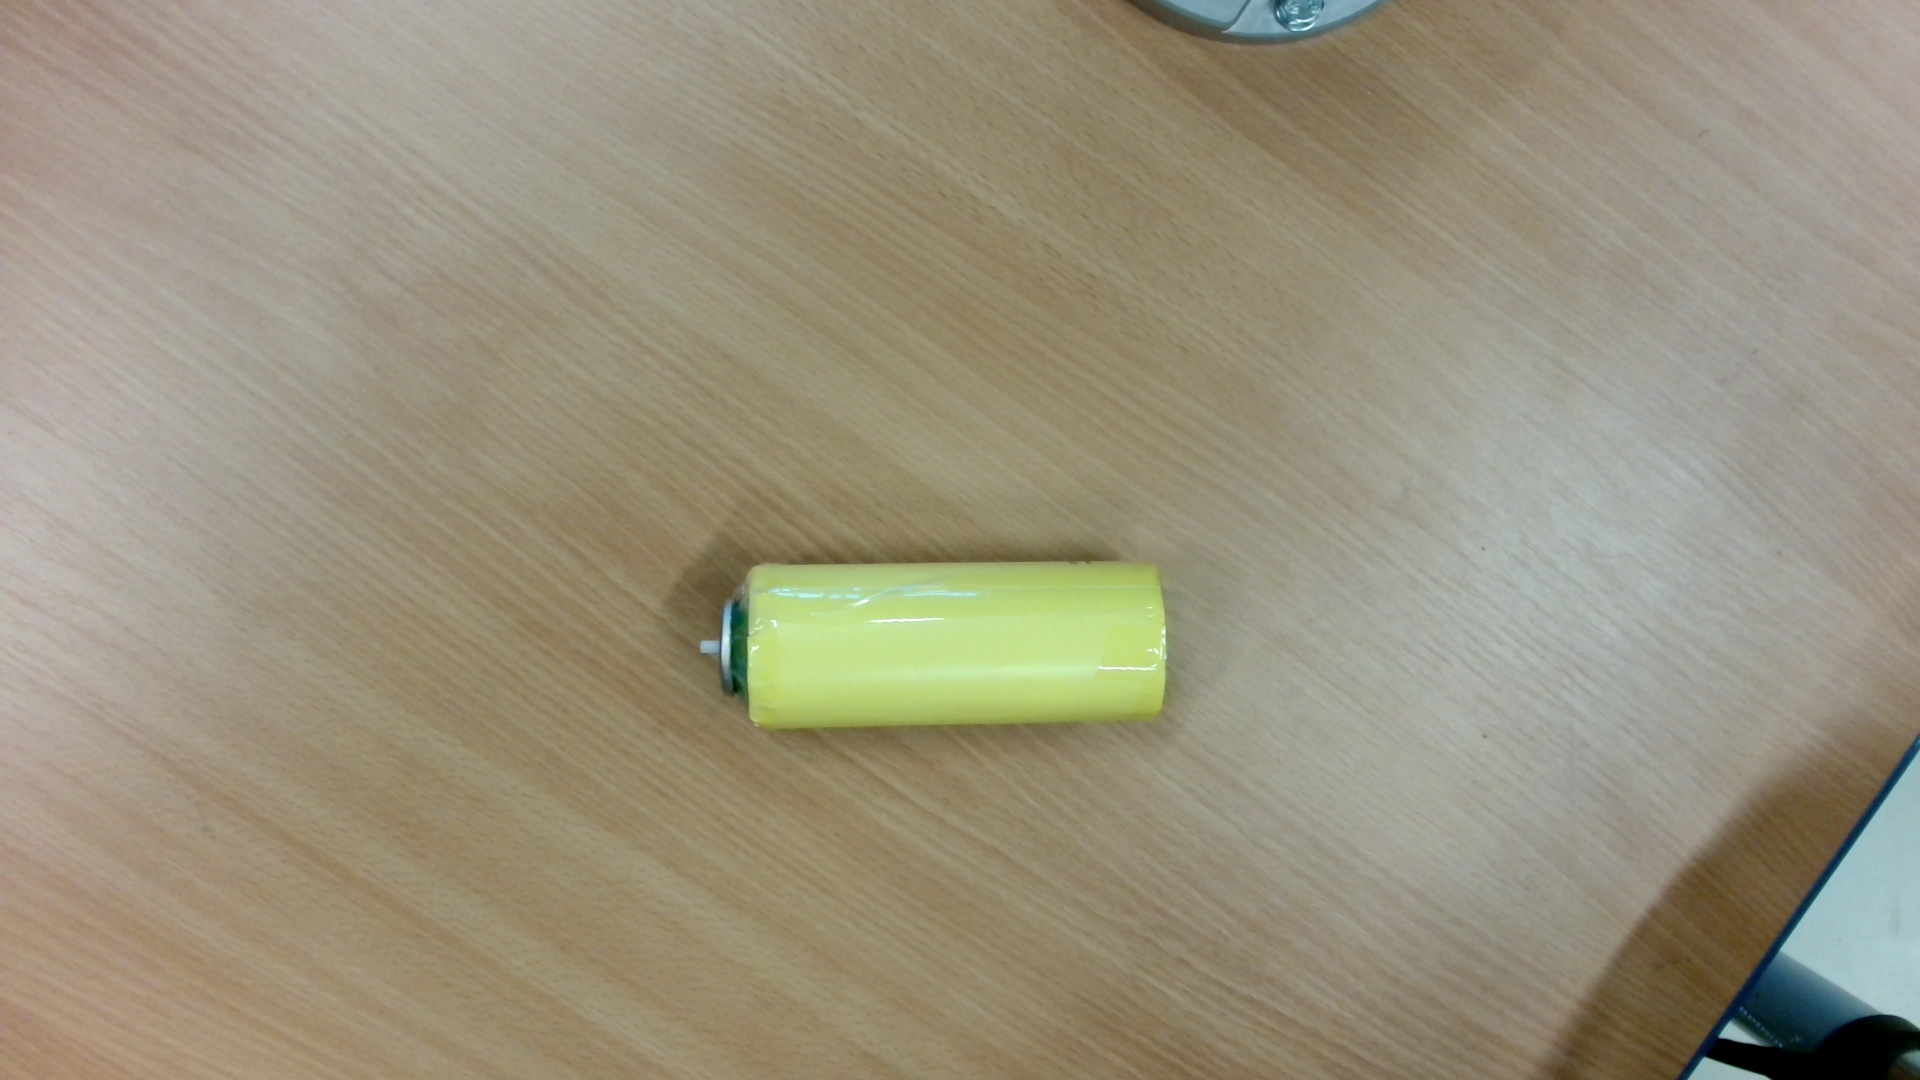Cylinder: (674, 553, 1200, 742)
